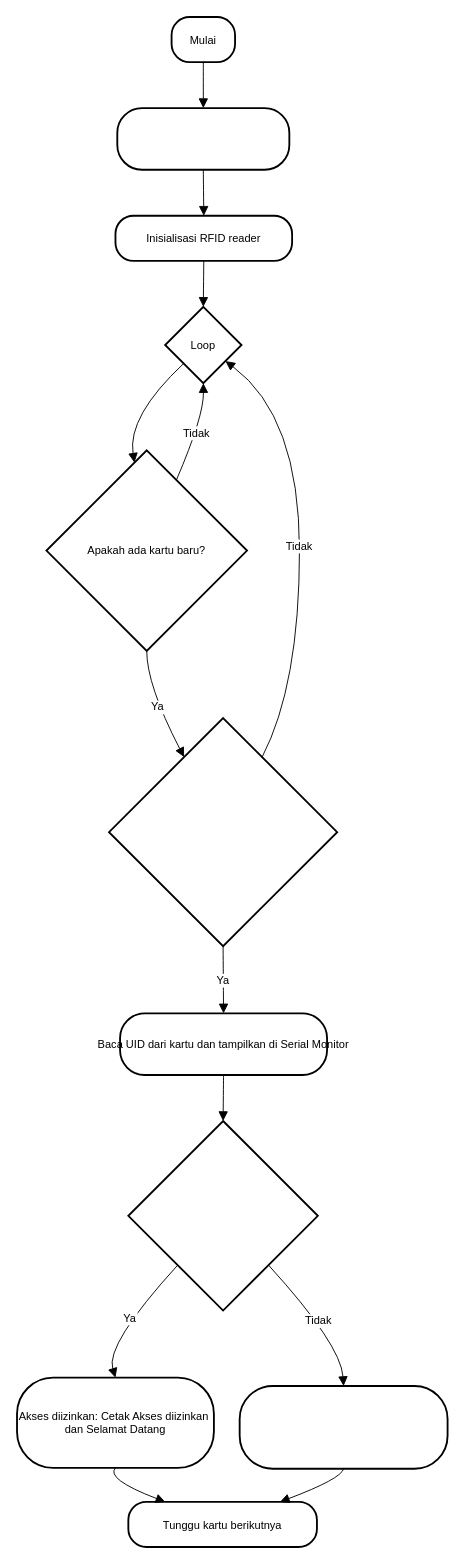
This 464x1563 diagram has some shape labels left out. Here are the shapes that lost their labels. From the top down, the centre of each, then its label:
[203,138]: Inisialisasi komunikasi Serial dan SPI
[223,832]: Apakah kartu dapat dibaca?
[222,1215]: Apakah UID diizinkan?
[343,1427]: Akses ditolak: Cetak Akses ditolak dan Coba Lagi
